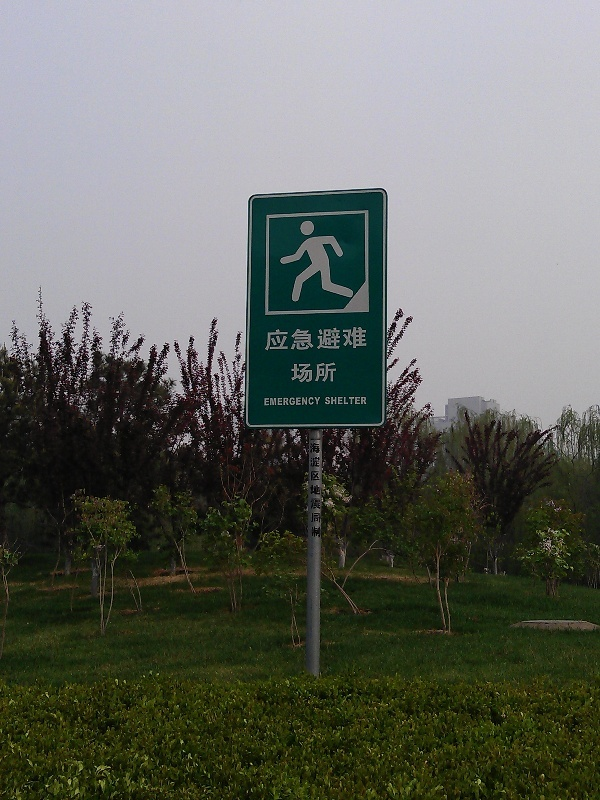text: (309, 441, 320, 540), (273, 326, 288, 353), (289, 326, 304, 353), (305, 326, 320, 353), (321, 326, 336, 353), (337, 326, 352, 353), (353, 326, 368, 353), (321, 362, 337, 383), (305, 362, 320, 383), (290, 362, 304, 383), (264, 326, 272, 353), (305, 396, 321, 407), (273, 396, 288, 407), (289, 396, 304, 407), (337, 397, 352, 406), (353, 397, 367, 406), (324, 397, 336, 406), (263, 396, 272, 407), (321, 441, 322, 540)
